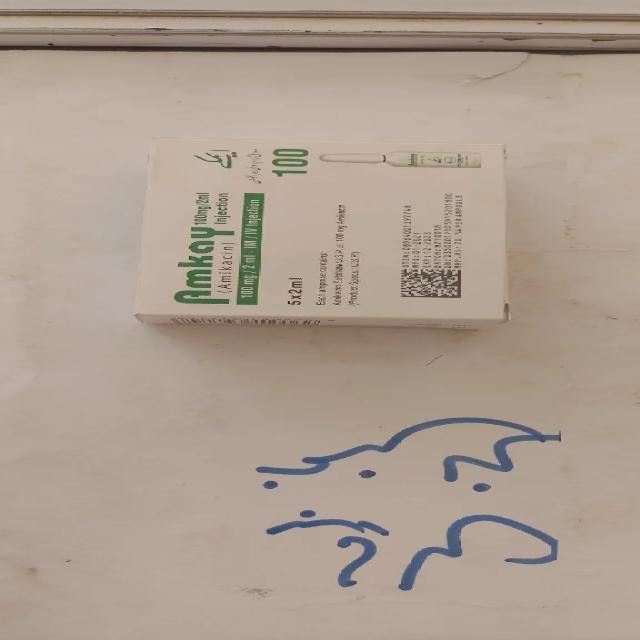drug-name: (170, 224, 236, 305)
